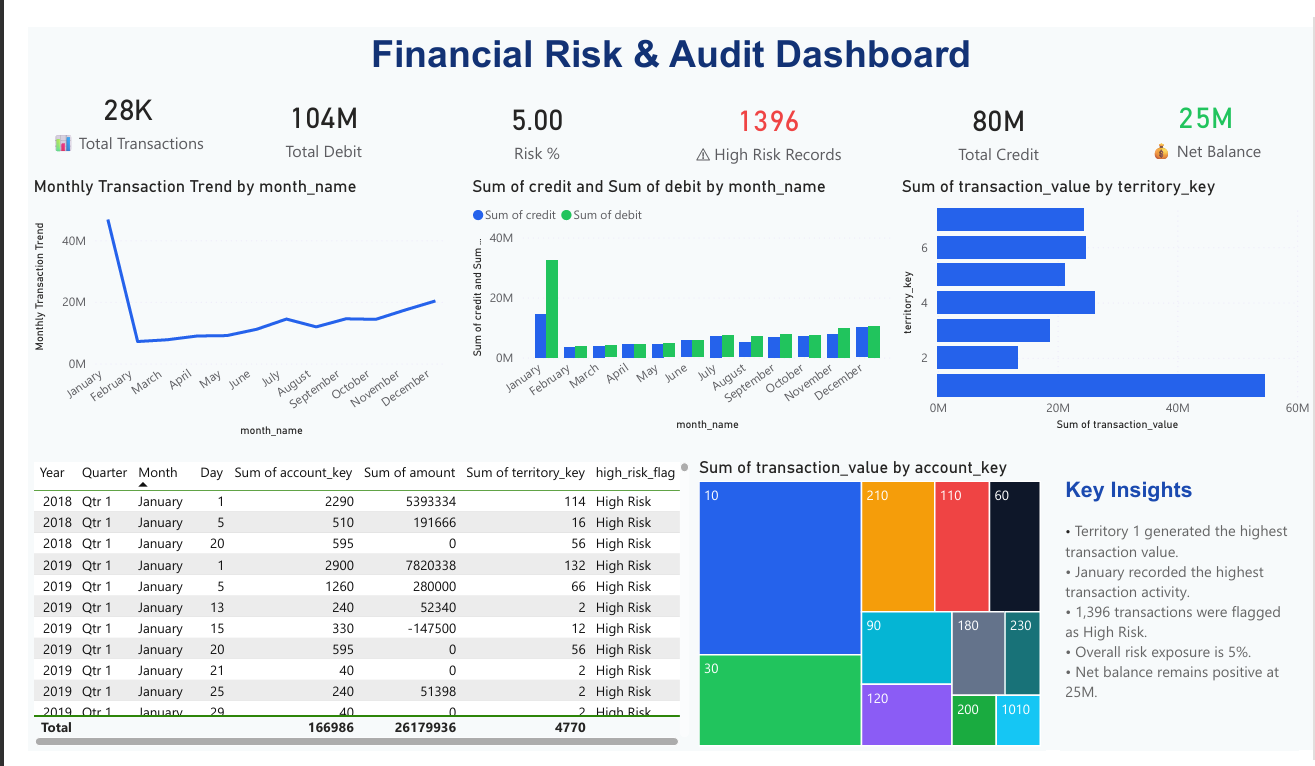

Layout of this report page (visuals, bound fields, positions):
{"tool":"powerbi","page":{"name":"Page 1","canvas":[1280,720],"ordinal":0},"visuals":[{"type":"card","fields":{"Values":["audit_cleaned_dataset.Total Transactions"]},"box":[0,43.8,198,92.5],"z":0},{"type":"card","fields":{"Values":["audit_cleaned_dataset.Total Debit"]},"box":[198,51.9,191.5,92.5],"z":1000},{"type":"card","fields":{"Values":["audit_cleaned_dataset.High Risk Count"]},"box":[623.2,53.6,228.8,94.1],"z":2000},{"type":"card","fields":{"Values":["audit_cleaned_dataset.Total Credit"]},"box":[860.2,55.2,212.6,92.5],"z":3000},{"type":"card","fields":{"Values":["audit_cleaned_dataset.Net Balance"]},"box":[1064.7,51.9,215.9,92.5],"z":4000},{"type":"lineChart","fields":{"Y":["Sum(audit_cleaned_dataset.transaction_value)"],"Category":["audit_cleaned_dataset.month_name"]},"box":[0,147.7,422,264.6],"z":5000},{"type":"clusteredColumnChart","fields":{"Category":["audit_cleaned_dataset.month_name"],"Y":["Sum(audit_cleaned_dataset.credit)","Sum(audit_cleaned_dataset.debit)"]},"box":[436.6,147.7,428.5,258.1],"z":6000},{"type":"tableEx","fields":{"Values":["audit_cleaned_dataset.date.Variation.Date Hierarchy.Year","audit_cleaned_dataset.date.Variation.Date Hierarchy.Quarter","audit_cleaned_dataset.date.Variation.Date Hierarchy.Month","audit_cleaned_dataset.date.Variation.Date Hierarchy.Day","Sum(audit_cleaned_dataset.account_key)","Sum(audit_cleaned_dataset.amount)","Sum(audit_cleaned_dataset.territory_key)","audit_cleaned_dataset.high_risk_flag"]},"box":[0,427.9,663.3,292.7],"z":7000},{"type":"clusteredBarChart","fields":{"Category":["audit_cleaned_dataset.territory_key"],"Y":["Sum(audit_cleaned_dataset.transaction_value)"]},"box":[865.1,147.7,415.5,258.1],"z":8000},{"type":"treemap","fields":{"Group":["audit_cleaned_dataset.account_key"],"Values":["Sum(audit_cleaned_dataset.transaction_value)"]},"box":[663.3,427.9,349.9,292.7],"z":9000},{"type":"card","fields":{"Values":["audit_cleaned_dataset.Risk %"]},"box":[389.5,53.6,233.7,92.5],"z":10000},{"type":"textbox","box":[0,0,1280.4,54.1],"z":11000},{"type":"textbox","box":[1027.5,443.8,238.6,276.8],"z":13000}]}

Visuals, with their boxes on the page's 1280x720 design canvas (x1, y1, x2, y2). These are canvas units, not pixel positions in the 1315x766 screenshot, which may show the page scaled, cropped or inside an application window:
card - audit_cleaned_dataset.Total Transactions: x1=0 y1=44 x2=198 y2=136
card - audit_cleaned_dataset.Total Debit: x1=198 y1=52 x2=390 y2=144
card - audit_cleaned_dataset.High Risk Count: x1=623 y1=54 x2=852 y2=148
card - audit_cleaned_dataset.Total Credit: x1=860 y1=55 x2=1073 y2=148
card - audit_cleaned_dataset.Net Balance: x1=1065 y1=52 x2=1281 y2=144
lineChart - Sum(audit_cleaned_dataset.transaction_value) x audit_cleaned_dataset.month_name: x1=0 y1=148 x2=422 y2=412
clusteredColumnChart - audit_cleaned_dataset.month_name x Sum(audit_cleaned_dataset.credit): x1=437 y1=148 x2=865 y2=406
tableEx - audit_cleaned_dataset.date.Variation.Date Hierarchy.Year x audit_cleaned_dataset.date.Variation.Date Hierarchy.Quarter: x1=0 y1=428 x2=663 y2=721
clusteredBarChart - audit_cleaned_dataset.territory_key x Sum(audit_cleaned_dataset.transaction_value): x1=865 y1=148 x2=1281 y2=406
treemap - audit_cleaned_dataset.account_key x Sum(audit_cleaned_dataset.transaction_value): x1=663 y1=428 x2=1013 y2=721
card - audit_cleaned_dataset.Risk %: x1=390 y1=54 x2=623 y2=146
textbox: x1=0 y1=0 x2=1280 y2=54
textbox: x1=1028 y1=444 x2=1266 y2=721
